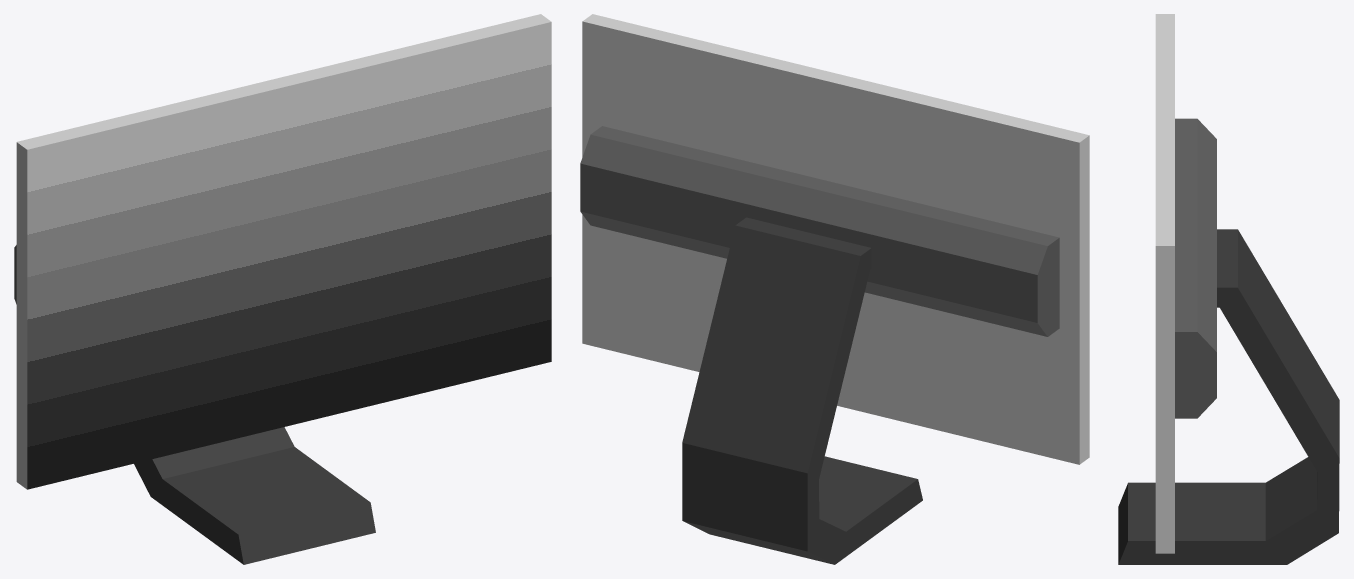
File: monitor_A.FBX
The picture shows the model from 3 angles, left to right: view 1: azimuth 30°, elevation 25°; view 2: azimuth 150°, elevation 25°; view 3: azimuth 270°, elevation 25°; orthographic projection. The views are drawn at different scales.
Visible parts, largest first — view 1: monitor_A_screen, monitor_A; view 2: monitor_A_screen, monitor_A; view 3: monitor_A, monitor_A_screen.
Part boxes in pixels (box(x1,y1,x2,y2)): monitor_A_screen: box(16, 14, 551, 489); monitor_A: box(14, 245, 375, 564); monitor_A_screen: box(582, 14, 1089, 464); monitor_A: box(580, 126, 1059, 564); monitor_A: box(1118, 118, 1339, 564); monitor_A_screen: box(1155, 14, 1174, 553).
Bounding box in the file's own units: 29.05 × 23.71 × 11.71.
